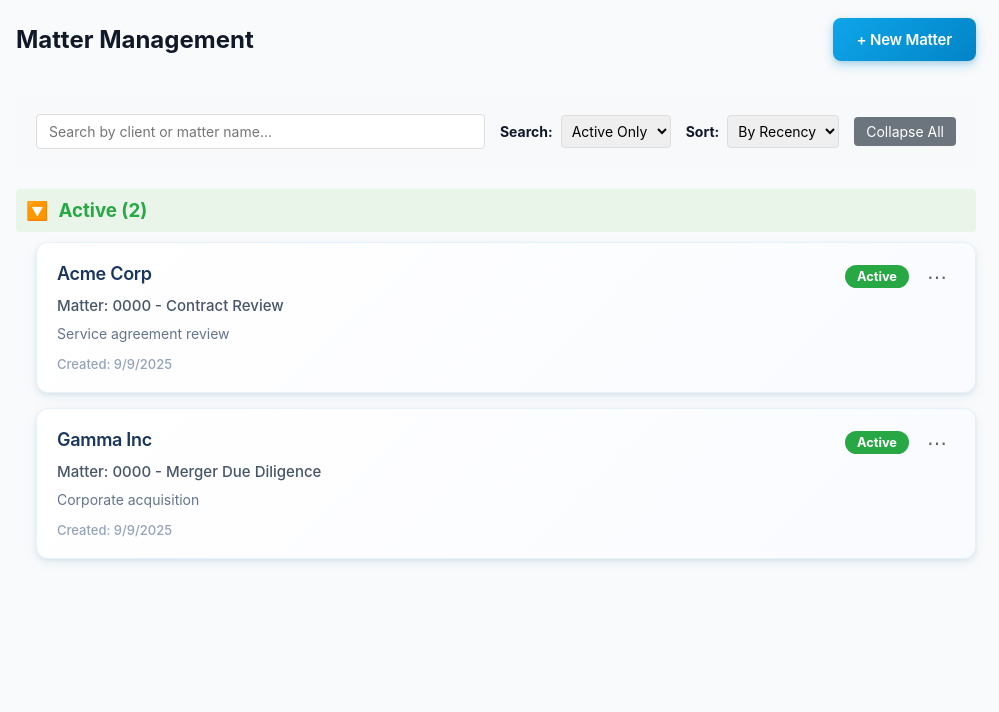
Test: MatterManagement - Search and Collapsible Sections › search filters matters by client and matter name
The image size is (999, 712).
Expected: the heading "Active (2)" is shown, x1=58 y1=199 x2=147 y2=222
// Search for "Acme" - should show only Acme Corp matters
In the field with placeholder "Search by client or matter name...": coordinates (260, 131) x1=36 y1=114 x2=485 y2=149, type "Acme"
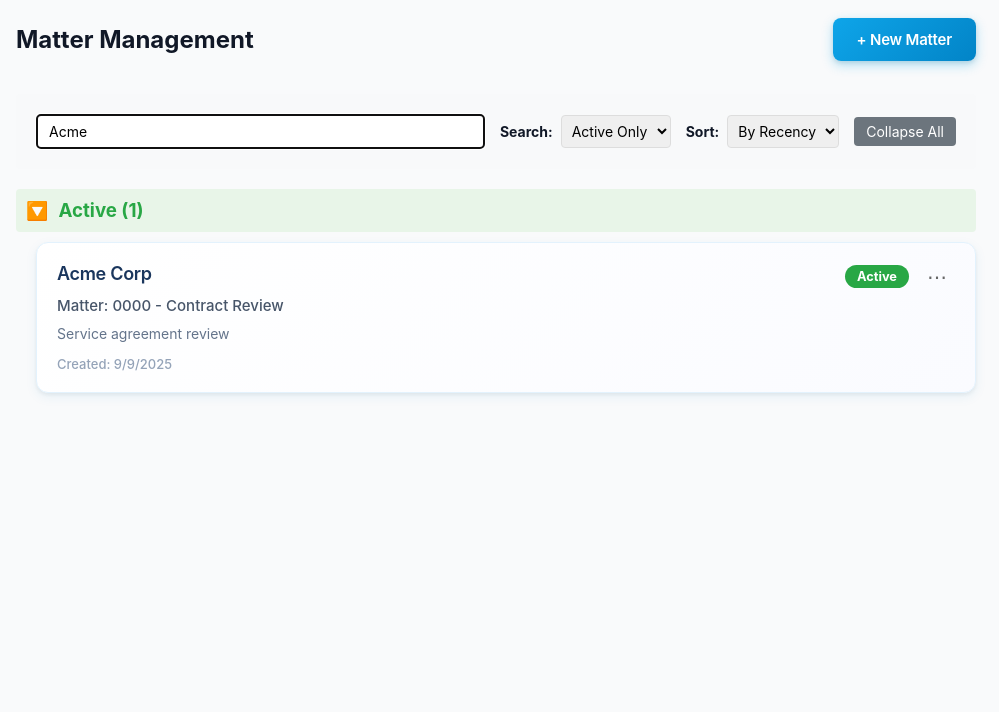
// Switch to "All Matters" to see results across sections
Select "All Matters" in the dropdown showing "Active Only" next to "Search:": coordinates (616, 131) x1=561 y1=115 x2=671 y2=148
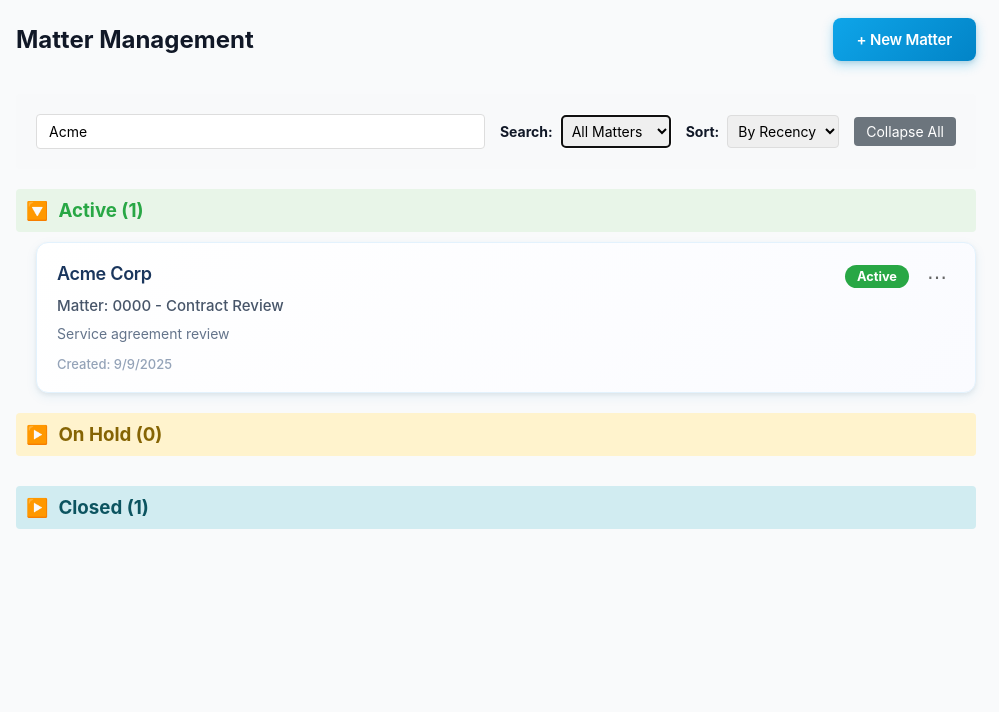
Expected: the heading "Active (1)" is shown, x1=58 y1=199 x2=144 y2=222
Expected: the heading "Closed (1)" is shown, x1=58 y1=496 x2=149 y2=519
// Clear search
Clear the field with placeholder "Search by client or matter name...": coordinates (260, 131) x1=36 y1=114 x2=485 y2=149
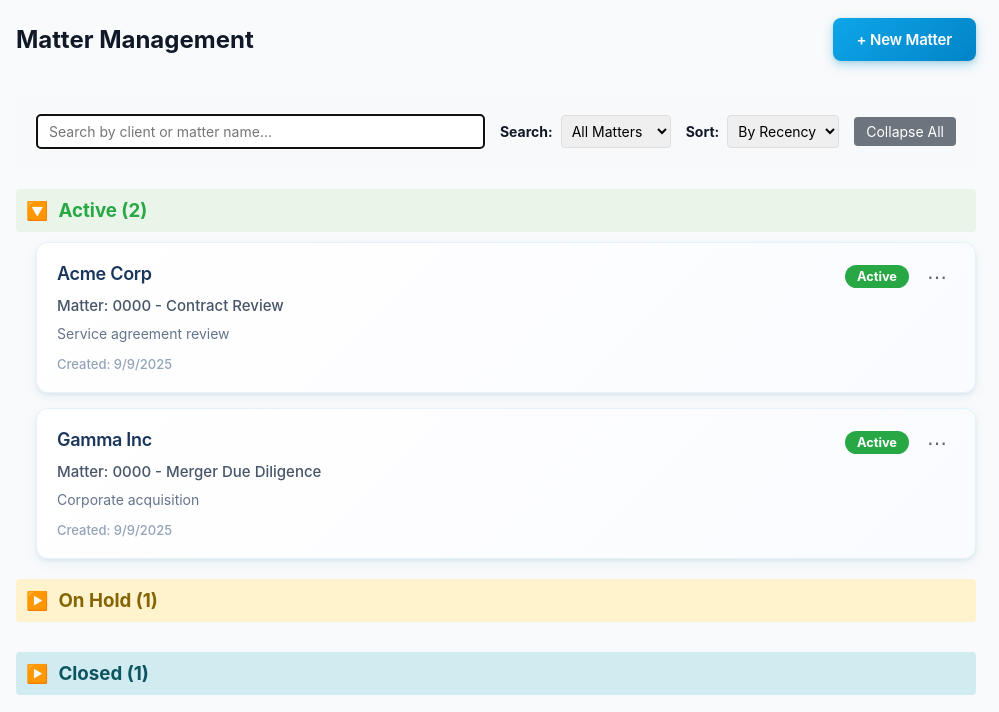
Expected: the heading "Closed (1)" is shown, x1=58 y1=662 x2=149 y2=685
Expected: the heading "Active (2)" is shown, x1=58 y1=199 x2=147 y2=222
Expected: the heading "On Hold (1)" is shown, x1=58 y1=589 x2=158 y2=612
// Search by matter name
In the field with placeholder "Search by client or matter name...": coordinates (260, 131) x1=36 y1=114 x2=485 y2=149, type "Contract"
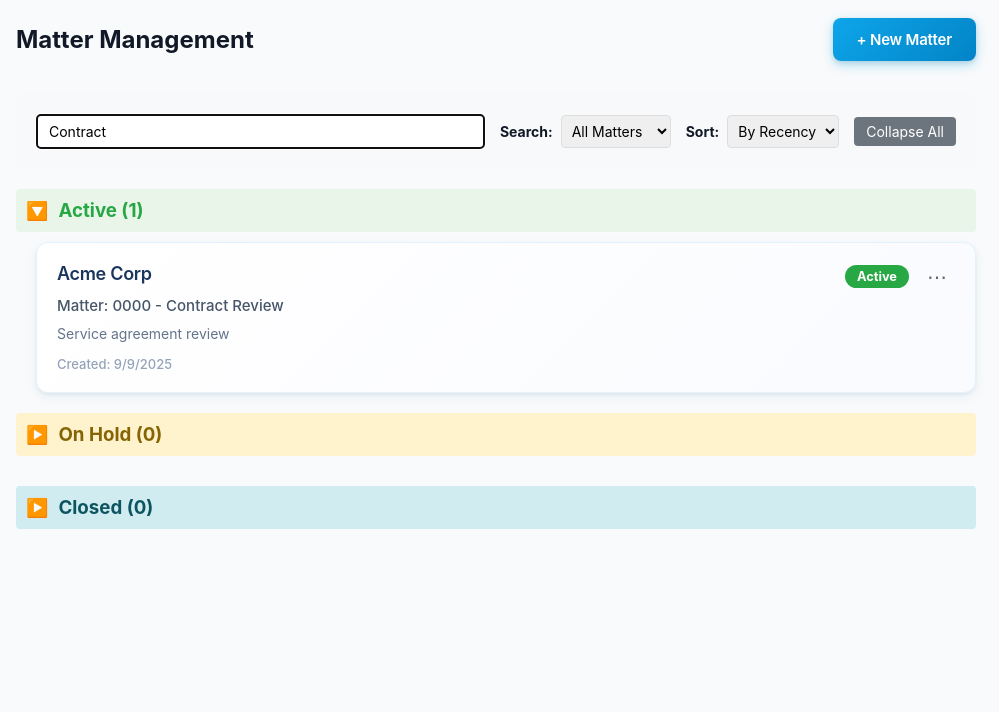
Expected: the heading "Active (1)" is shown, x1=58 y1=199 x2=144 y2=222
Expected: the heading "On Hold (0)" is shown, x1=58 y1=423 x2=162 y2=446
Expected: the heading "Closed (0)" is shown, x1=58 y1=496 x2=154 y2=519
